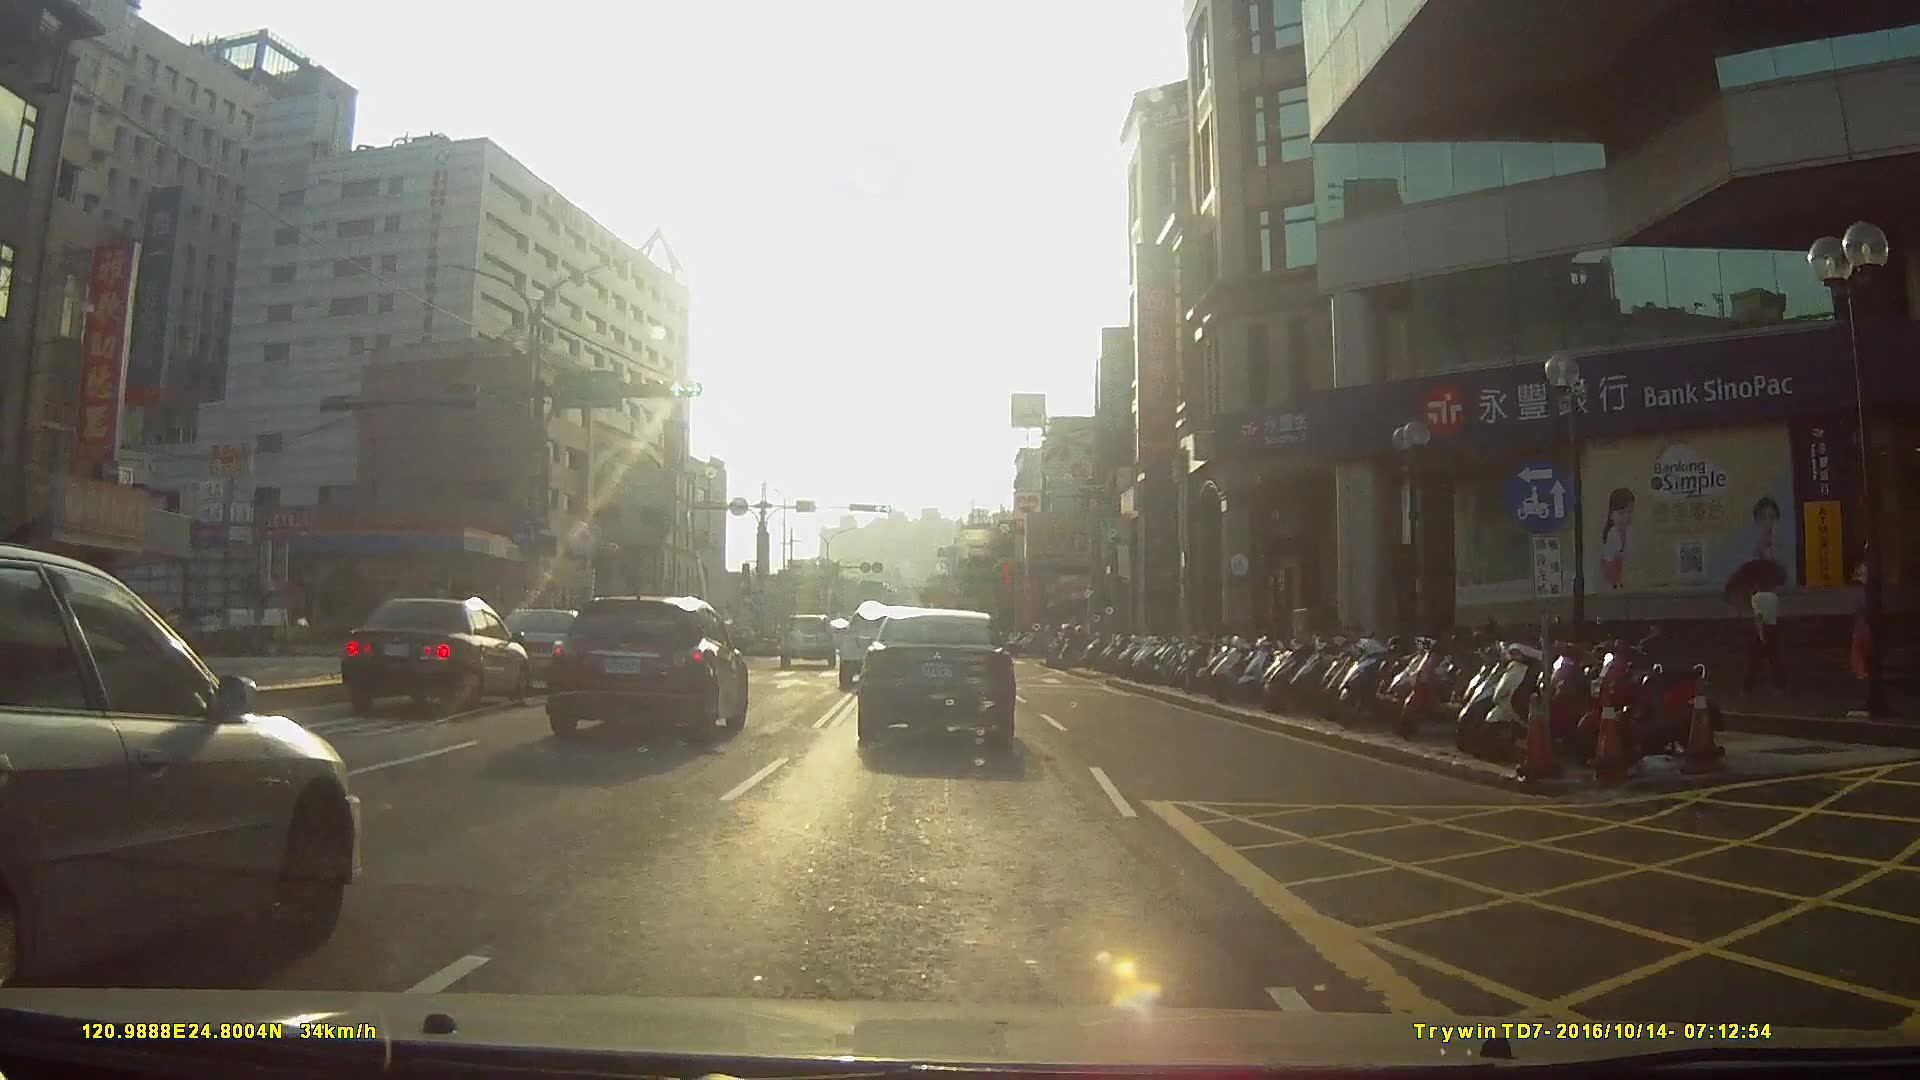pedestrian: (1836, 553, 1889, 720), (1747, 565, 1793, 692)
vehicle: (0, 544, 345, 994), (534, 587, 742, 735), (339, 598, 536, 721), (852, 604, 1014, 752), (469, 607, 595, 694), (779, 614, 839, 671)
